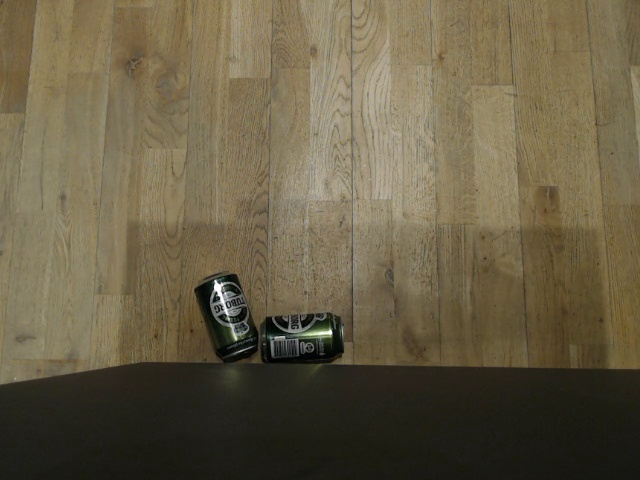beer: (194, 270, 258, 362), (261, 312, 344, 363)
